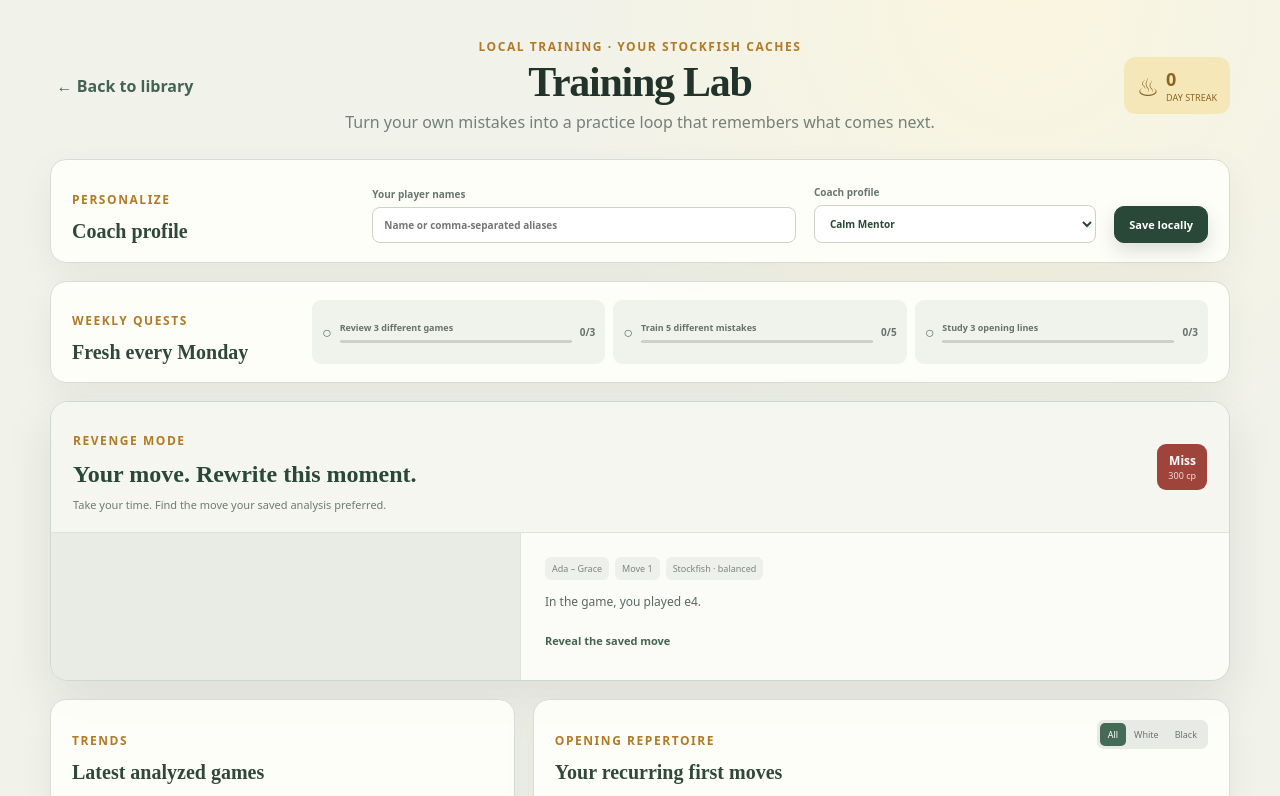
it: TrainingScreen › changes coach tone without changing facts and persists a revealed puzzle
Check: the heading "Your move. Rewrite this moment." is shown, box x1=73 y1=461 x2=416 y2=488
Step 1. Select "Playful Rival" in the dropdown labelled "Coach profile" → (955, 224), box x1=814 y1=205 x2=1096 y2=243
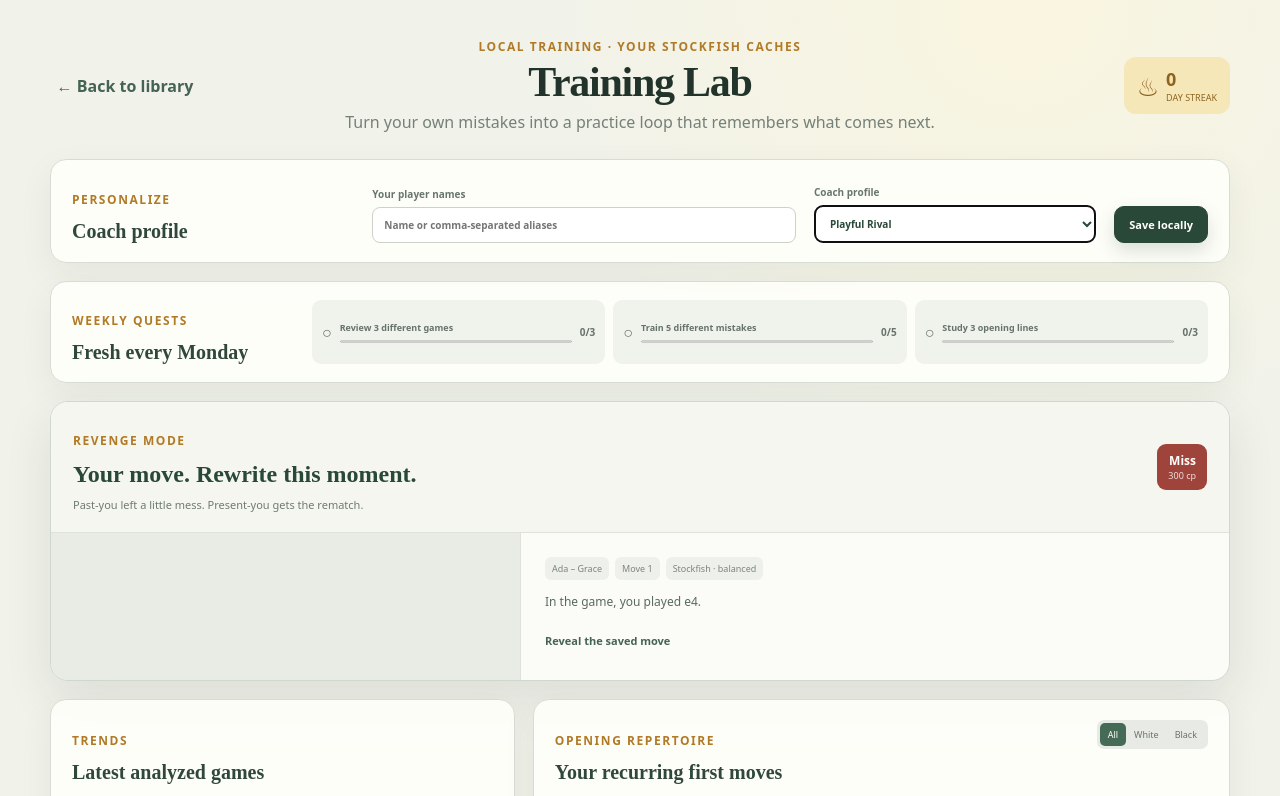
Check: the text "Miss" is shown, box x1=1169 y1=452 x2=1196 y2=469
Check: the text "Past-you left a little mess. Present-you gets the rematch." is shown, box x1=73 y1=497 x2=363 y2=512
Step 2. Click the button "Reveal the saved move" → (608, 640), box x1=545 y1=625 x2=670 y2=656
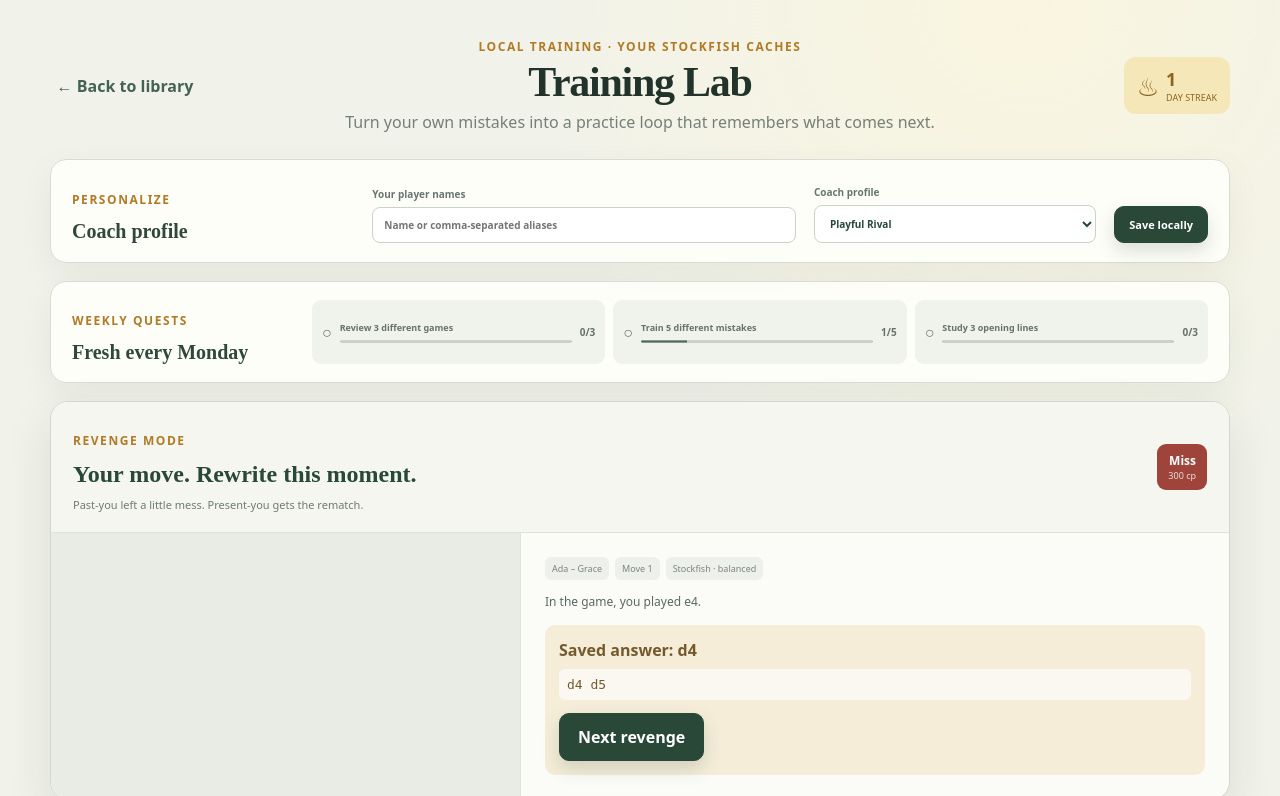
Check: the text "Saved answer: d4" is shown, box x1=559 y1=639 x2=697 y2=661
